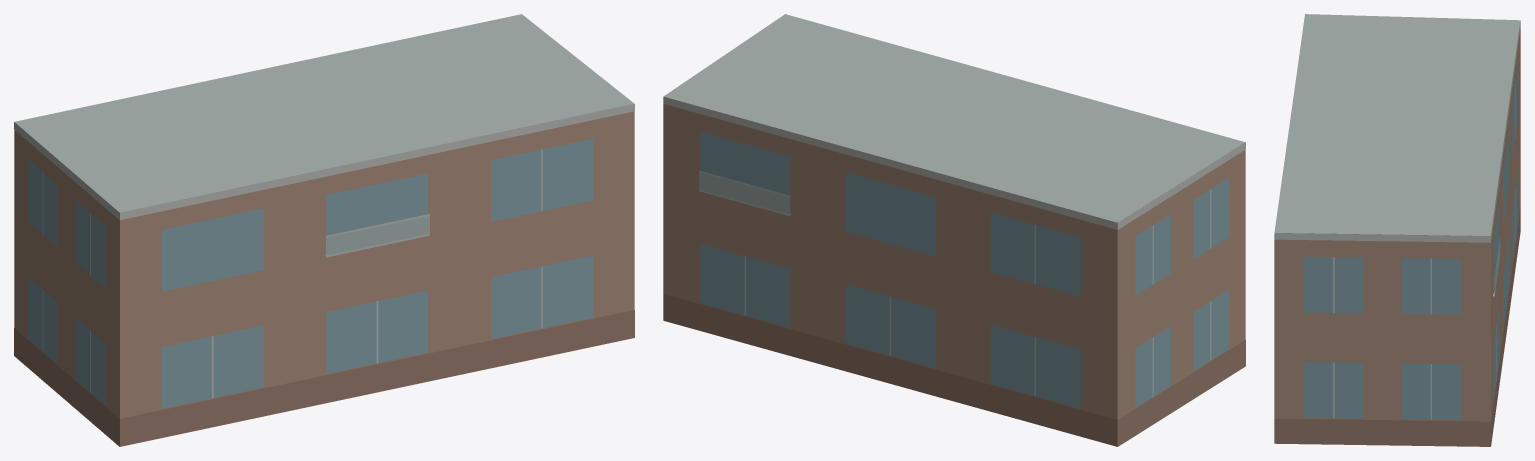
Rendered from survey-upis-32933197.glb.
The picture shows the model from 3 angles, left to right: view 1: azimuth 30°, elevation 25°; view 2: azimuth 150°, elevation 25°; view 3: azimuth 270°, elevation 25°; orthographic projection. The views are drawn at different scales.
Visible parts, largest first — view 1: survey-upis-32933197.tmp; view 2: survey-upis-32933197.tmp; view 3: survey-upis-32933197.tmp.
Part boxes in pixels (x1,y1,x2,y2): survey-upis-32933197.tmp: (14, 14, 634, 446); survey-upis-32933197.tmp: (663, 14, 1245, 446); survey-upis-32933197.tmp: (1274, 14, 1520, 446).
Bounding box in the file's own units: 17.18 × 7.6 × 8.05.
